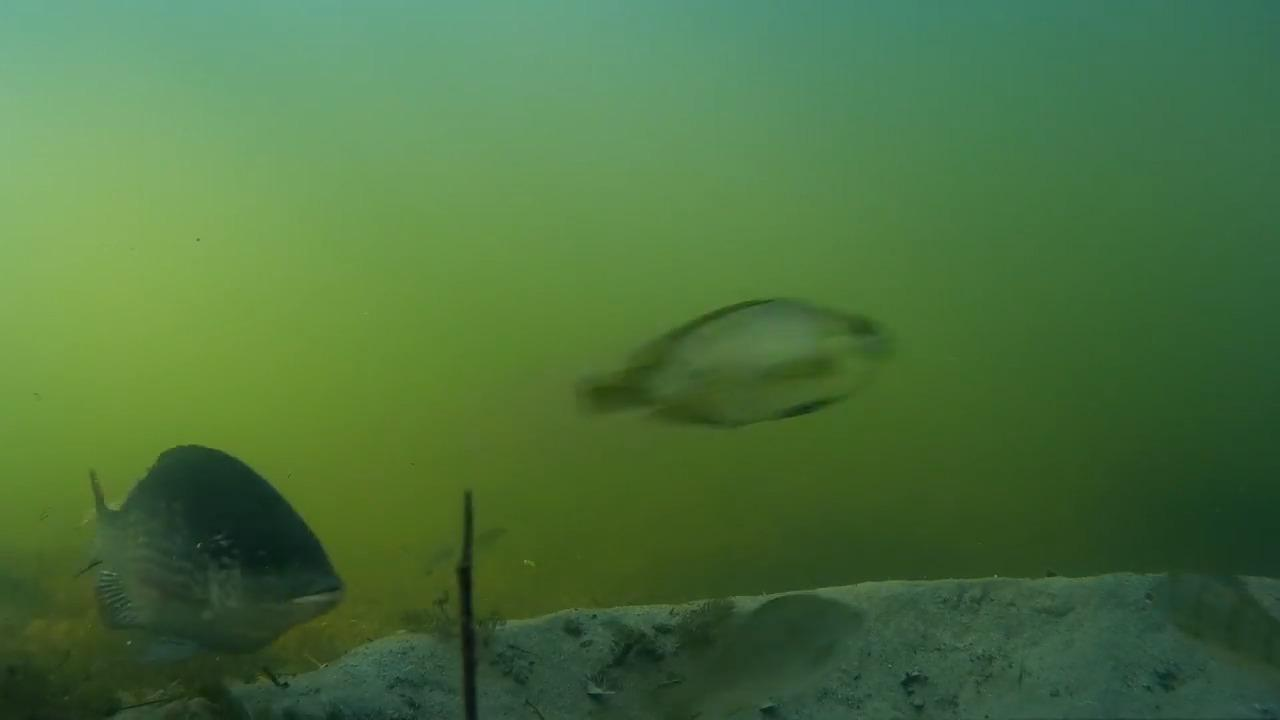Tilapia: (45, 454, 337, 670), (580, 290, 897, 428), (631, 586, 866, 720), (1149, 550, 1280, 702)
